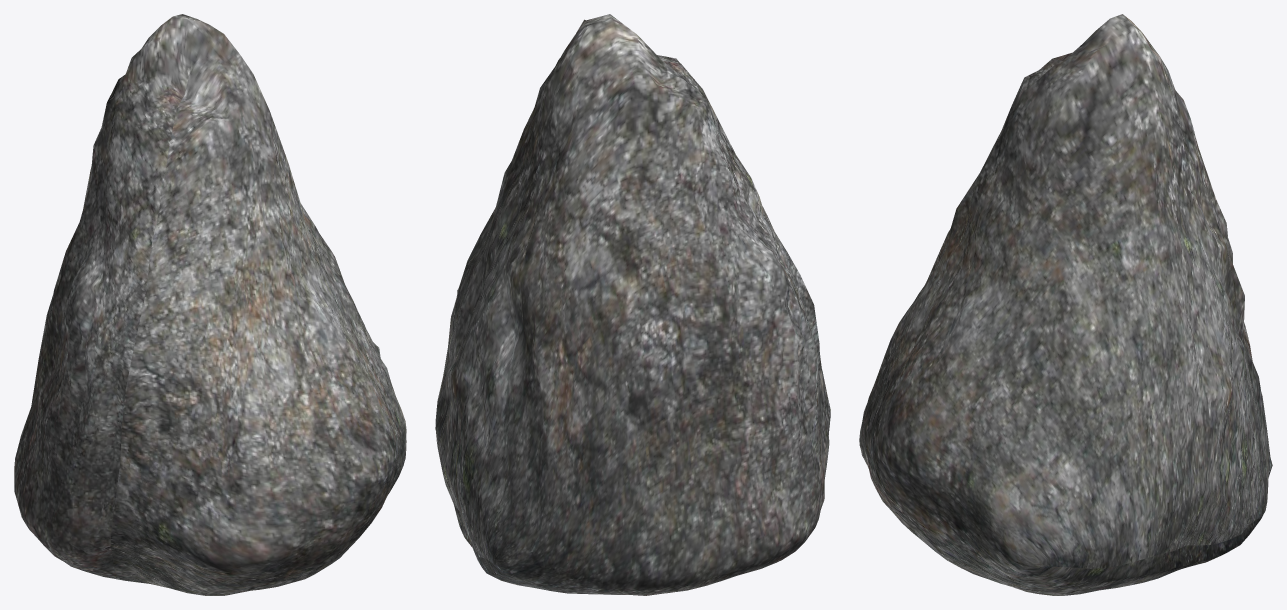
The model's file is rock3.fbx.
The picture shows the model from 3 angles, left to right: view 1: azimuth 30°, elevation 25°; view 2: azimuth 150°, elevation 25°; view 3: azimuth 270°, elevation 25°; orthographic projection. The views are drawn at different scales.
Visible parts, largest first — view 1: rock3; view 2: rock3; view 3: rock3.
Part boxes in pixels (box(x1,y1,x2,y2)): rock3: box(14, 14, 406, 595); rock3: box(435, 14, 830, 595); rock3: box(859, 14, 1272, 595).
Size of the model in its own units: 12.05 by 18.23 by 12.48.
